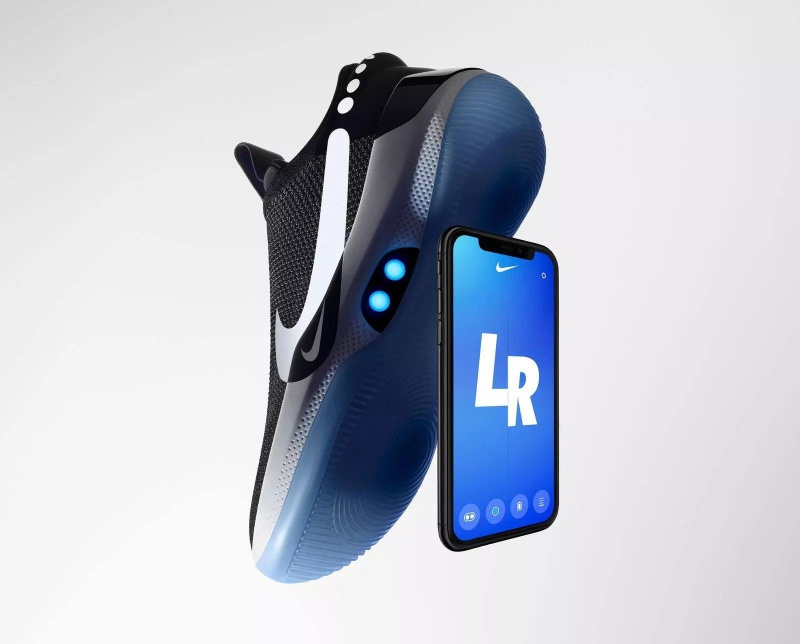nike: (265, 131, 354, 387), (489, 259, 520, 280)
